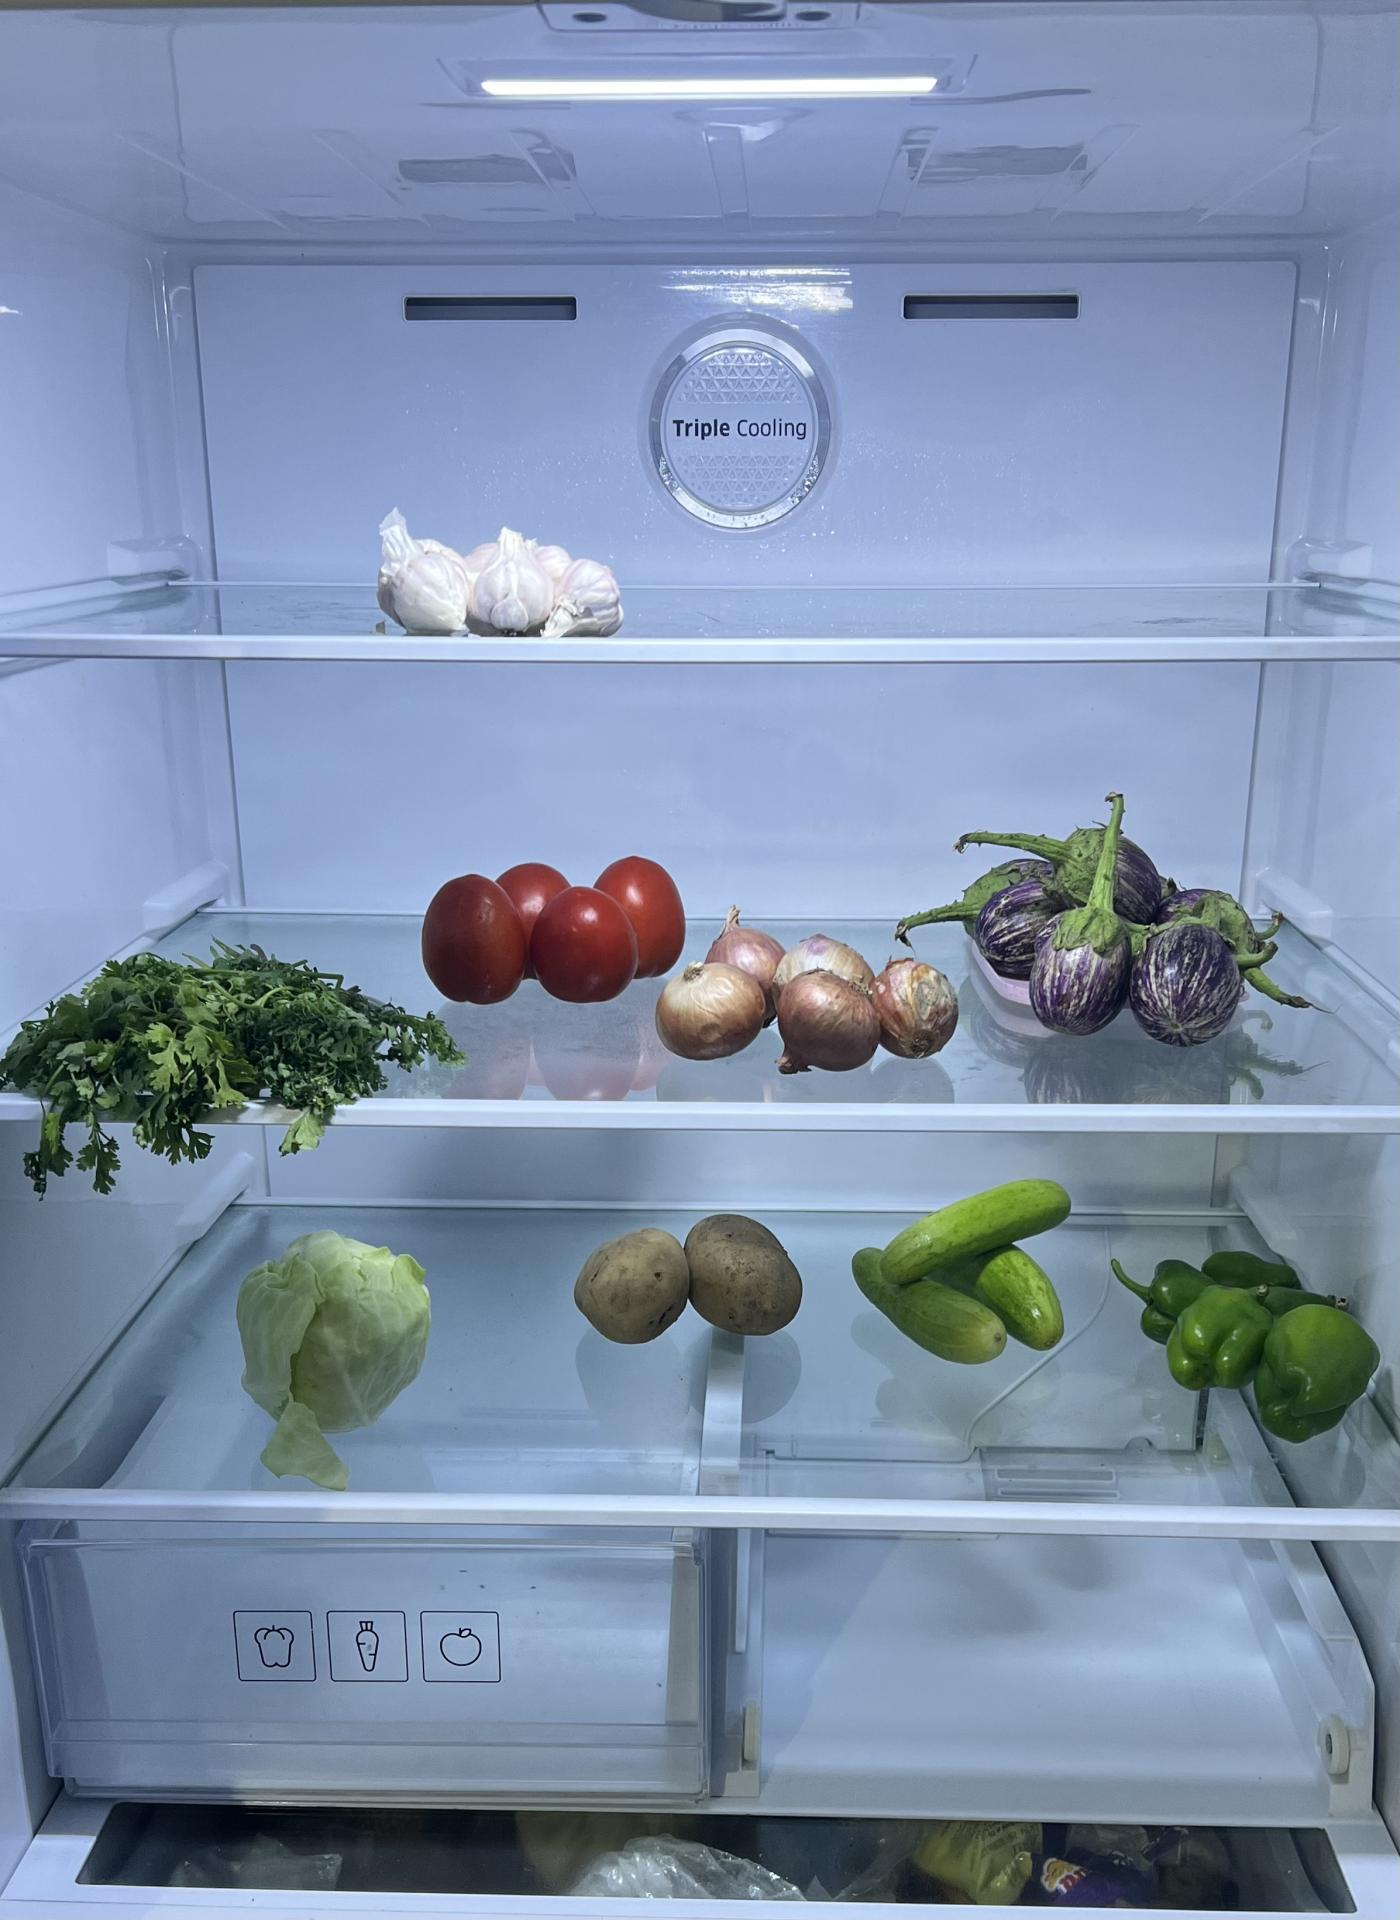brinjal: (972, 826, 1266, 1049)
cabbage: (234, 1230, 431, 1431)
capsicum: (1124, 1240, 1387, 1437)
coriander: (1, 948, 440, 1142)
cucumber: (850, 1172, 1073, 1365)
garlic: (374, 517, 625, 642)
onion: (655, 915, 962, 1076)
potato: (568, 1207, 802, 1346)
tomato: (414, 850, 684, 1006)
